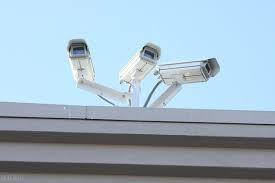tutu: (121, 41, 168, 87), (156, 55, 220, 86), (62, 35, 96, 85)
